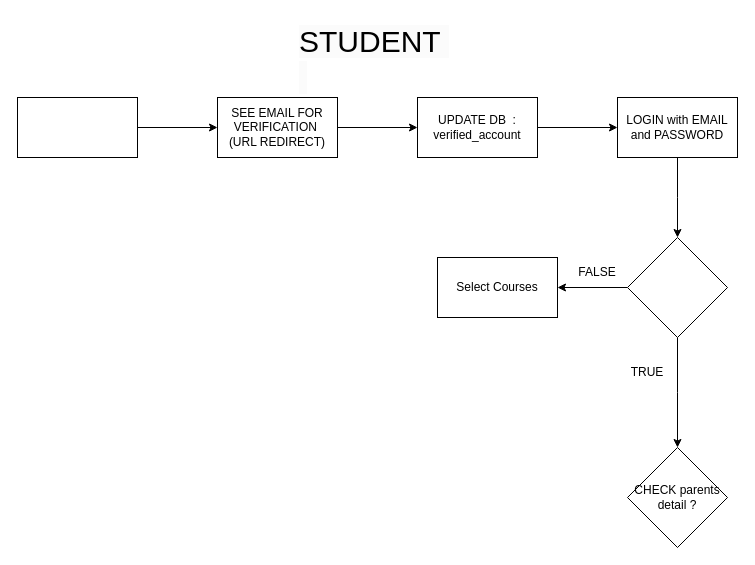
This 755x565 diagram has some shape labels left out. Here are the shapes that lost their labels. From the top down, the centre of each, then its label:
point (77, 127): REGISTER ACCOUNT
point (677, 287): CHECK course selected ?
